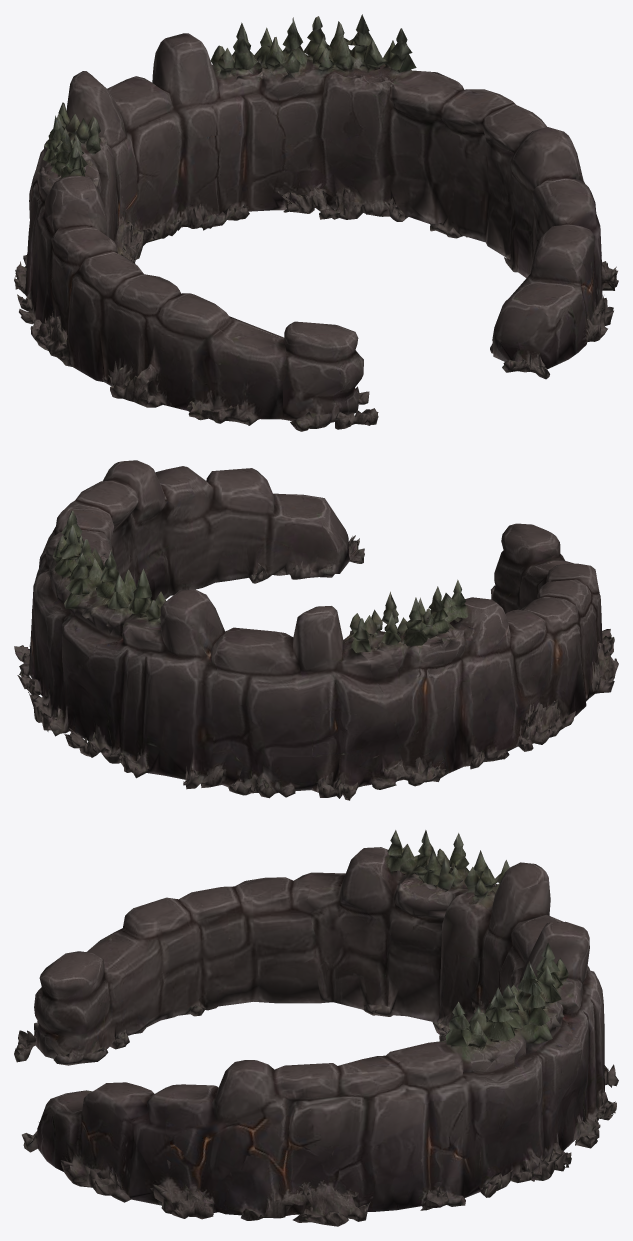
The model's file is pit_wall_dragon.glb.
3 renders of one model, top to bottom at view 1: azimuth 30°, elevation 25°; view 2: azimuth 150°, elevation 25°; view 3: azimuth 270°, elevation 25°, orthographic. The views are drawn at different scales.
Size of the model in its own units: 1.89 by 0.6394 by 1.88.
Materials: 1 (1 with a texture image).
